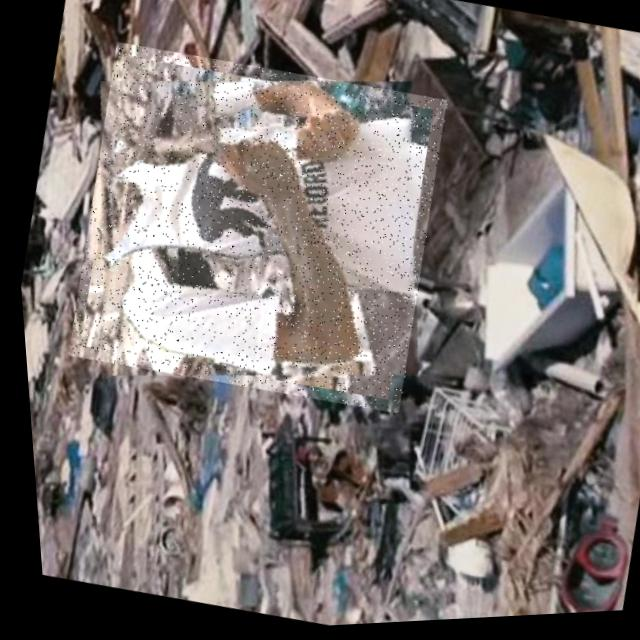Person in Rubble: (45, 29, 464, 430)
